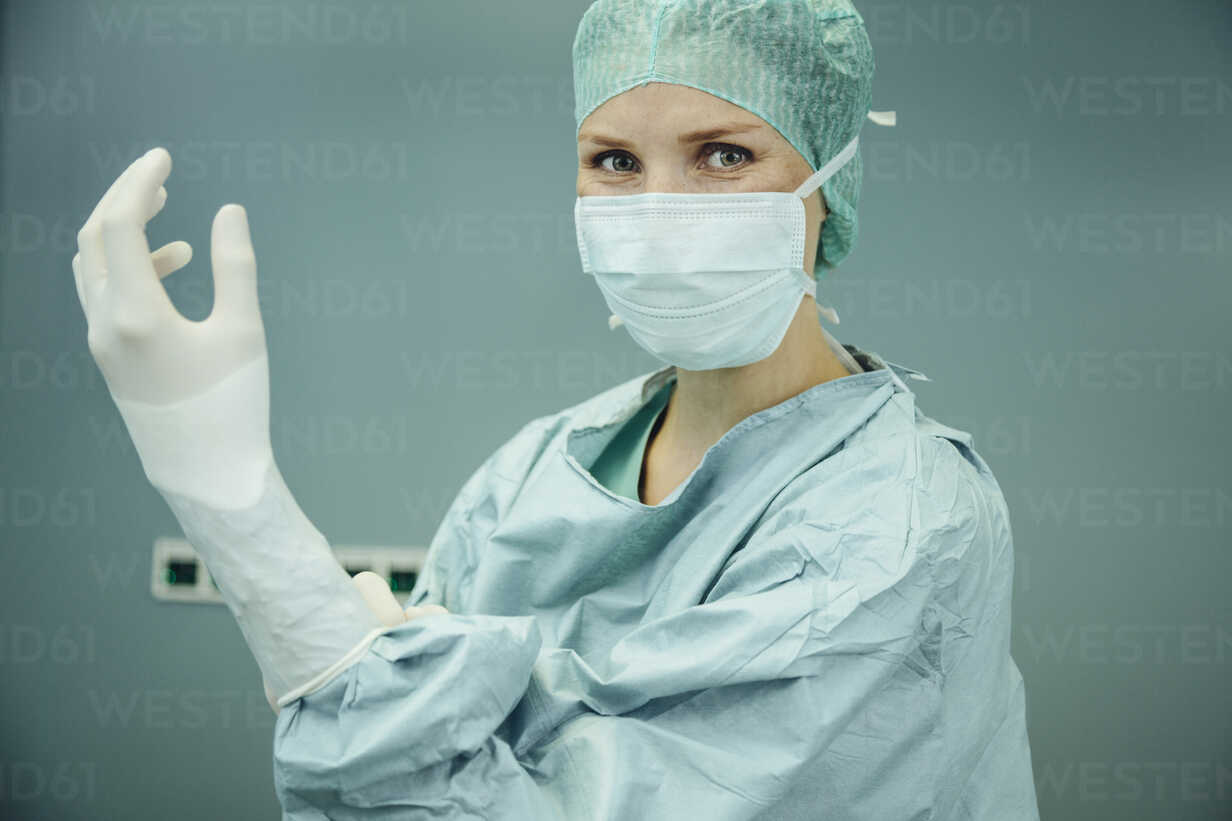Gloves: (55, 136, 364, 569)
with_mask: (574, 148, 807, 369)
